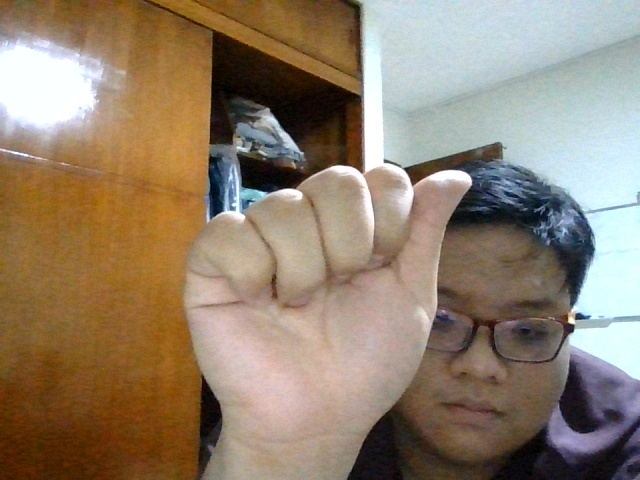a: (180, 162, 478, 437)
